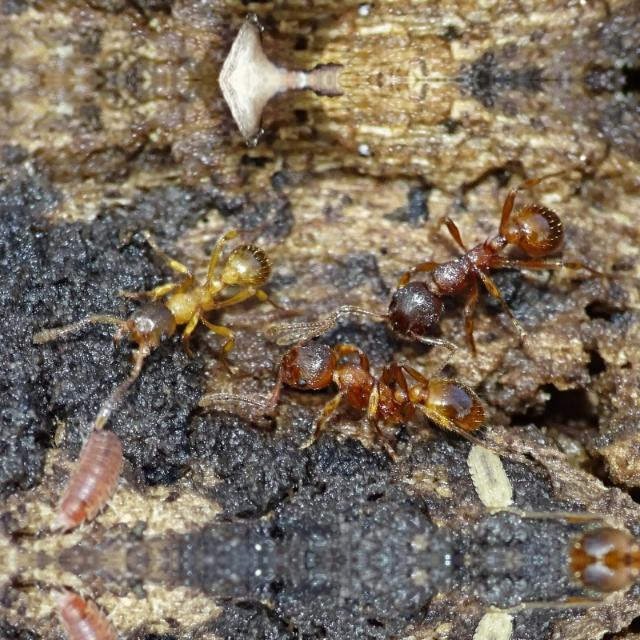Myrmica: (342, 188, 578, 348), (94, 232, 302, 370), (282, 340, 520, 458)
